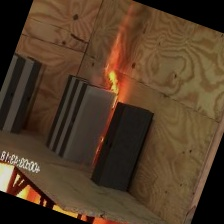fire: (82, 57, 134, 119)
